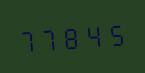eight: (62, 20, 83, 52)
five: (106, 17, 127, 49)
four: (84, 19, 105, 50)
seven: (18, 23, 39, 55), (40, 22, 61, 53)
